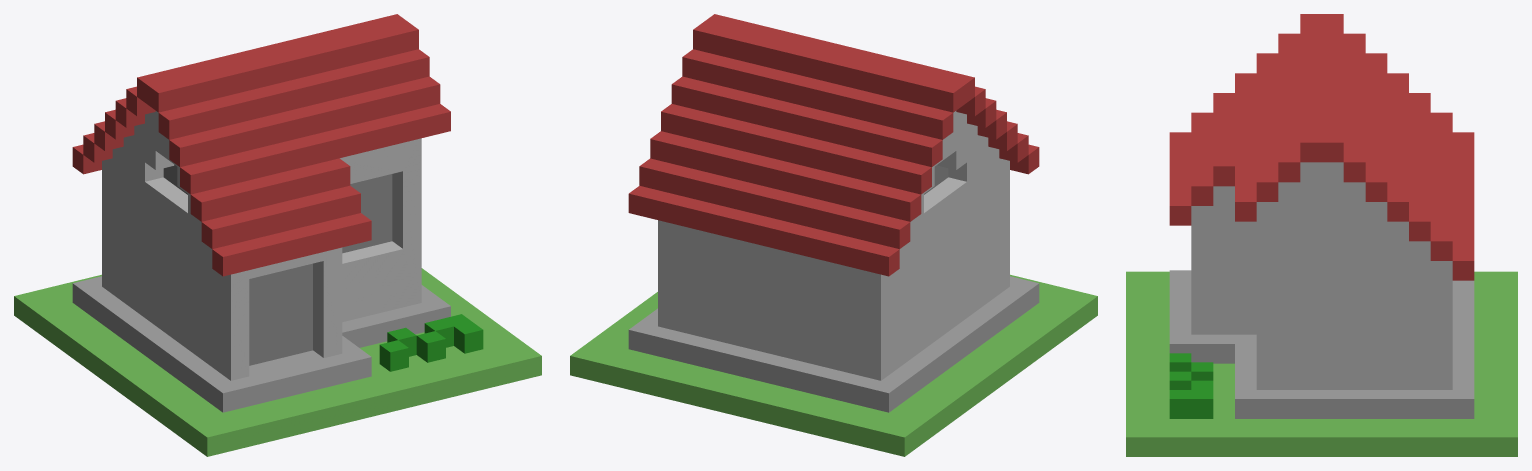
3 renders of one model, left to right at view 1: azimuth 30°, elevation 25°; view 2: azimuth 150°, elevation 25°; view 3: azimuth 270°, elevation 25°, orthographic.
Parts seen in each view (by area): view 1: 12; view 2: 12; view 3: 12.
Part boxes in pixels (x1,y1,x2,y2): 12: (14, 14, 541, 456); 12: (570, 14, 1097, 456); 12: (1126, 14, 1517, 456).
Size of the model in its own units: 450 by 375 by 450.
